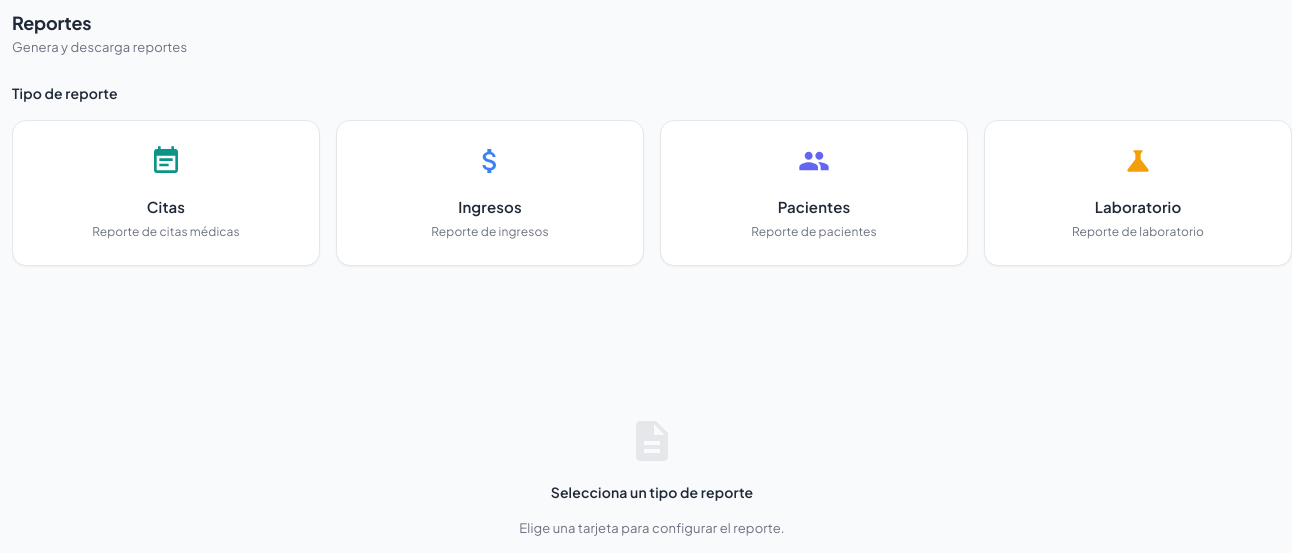
Test: ReportsPage › shows the date range form after selecting a report type
The image size is (1292, 553).
Click the heading "Citas". click: (166, 206)
box: [147,196,185,216]
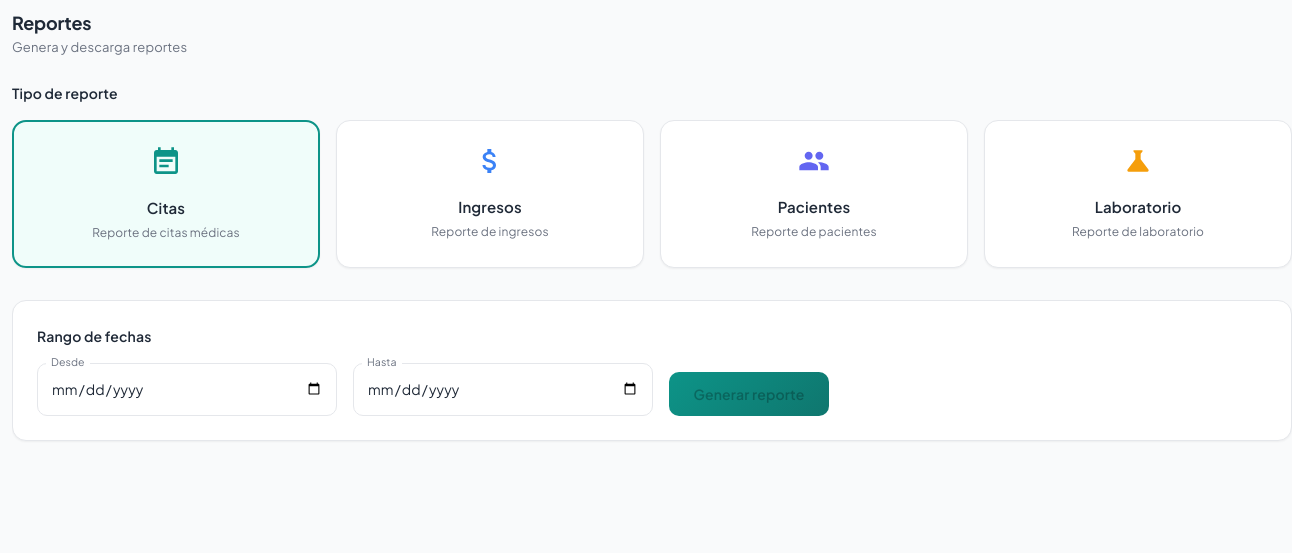
Check: the heading "Rango de fechas" is shown, box [37,326,152,344]
Check: the date field labelled "Desde" is shown, box [37,363,337,416]
Check: the date field labelled "Hasta" is shown, box [353,363,653,416]
